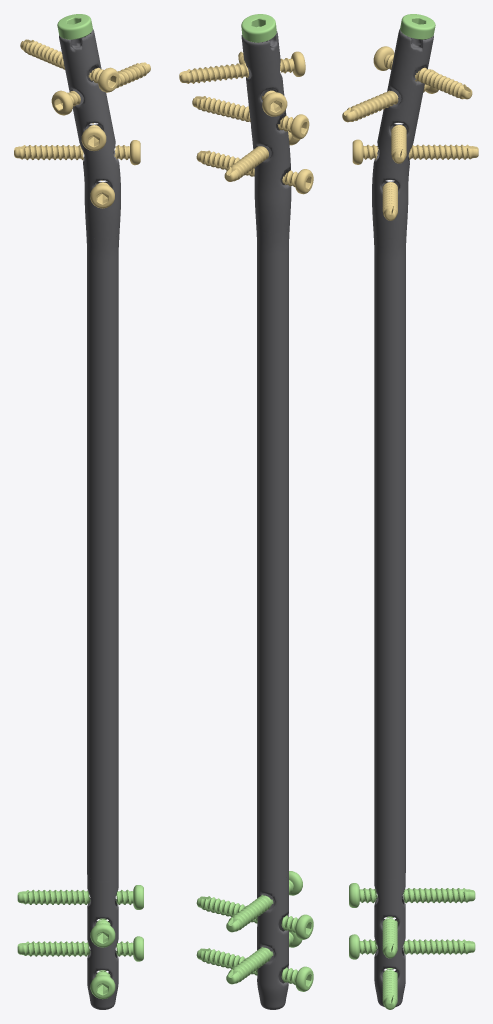
Rendered from rewalk-tibial.glb.
3 views of the same model, side by side, from view 1: azimuth 90°, elevation 25°; view 2: azimuth 150°, elevation 25°; view 3: azimuth 270°, elevation 25° (orthographic).
Visible parts, largest first — view 1: nail, lock_screw_7, lock_screw_9, lock_screw_4, lock_screw_1, lock_screw_2, end_cap, lock_screw_8, lock_screw_6, lock_screw_5, lock_screw_3; view 2: nail, lock_screw_1, lock_screw_3, lock_screw_6, lock_screw_8, lock_screw_5, lock_screw_9, lock_screw_7, end_cap, lock_screw_4, lock_screw_2; view 3: nail, lock_screw_7, lock_screw_9, lock_screw_4, lock_screw_1, lock_screw_2, end_cap, lock_screw_8, lock_screw_6, lock_screw_3, lock_screw_5.
Boxes of the visible parts, x1,y1,x2,y2 form: nail: [59, 29, 120, 1009]; lock_screw_7: [17, 936, 143, 961]; lock_screw_9: [17, 885, 143, 909]; lock_screw_4: [14, 140, 140, 165]; lock_screw_1: [20, 39, 119, 92]; lock_screw_2: [51, 62, 150, 115]; end_cap: [57, 14, 92, 39]; lock_screw_8: [90, 918, 115, 947]; lock_screw_6: [90, 970, 115, 999]; lock_screw_5: [90, 180, 114, 208]; lock_screw_3: [81, 123, 106, 150]; nail: [241, 31, 291, 1009]; lock_screw_1: [179, 51, 305, 83]; lock_screw_3: [192, 96, 309, 139]; lock_screw_6: [196, 948, 313, 991]; lock_screw_8: [196, 896, 313, 939]; lock_screw_5: [196, 150, 313, 194]; lock_screw_9: [226, 871, 302, 932]; lock_screw_7: [226, 931, 302, 984]; end_cap: [241, 14, 276, 42]; lock_screw_4: [224, 131, 299, 181]; lock_screw_2: [238, 51, 287, 116]; nail: [372, 29, 433, 1007]; lock_screw_7: [349, 934, 475, 959]; lock_screw_9: [349, 883, 475, 907]; lock_screw_4: [352, 139, 478, 164]; lock_screw_1: [373, 46, 472, 99]; lock_screw_2: [342, 69, 438, 122]; end_cap: [400, 14, 435, 39]; lock_screw_8: [382, 916, 397, 958]; lock_screw_6: [382, 968, 397, 1009]; lock_screw_3: [391, 125, 406, 163]; lock_screw_5: [382, 180, 397, 220].
Bounding box in the file's own units: 0.04 × 0.3448 × 0.0432.
